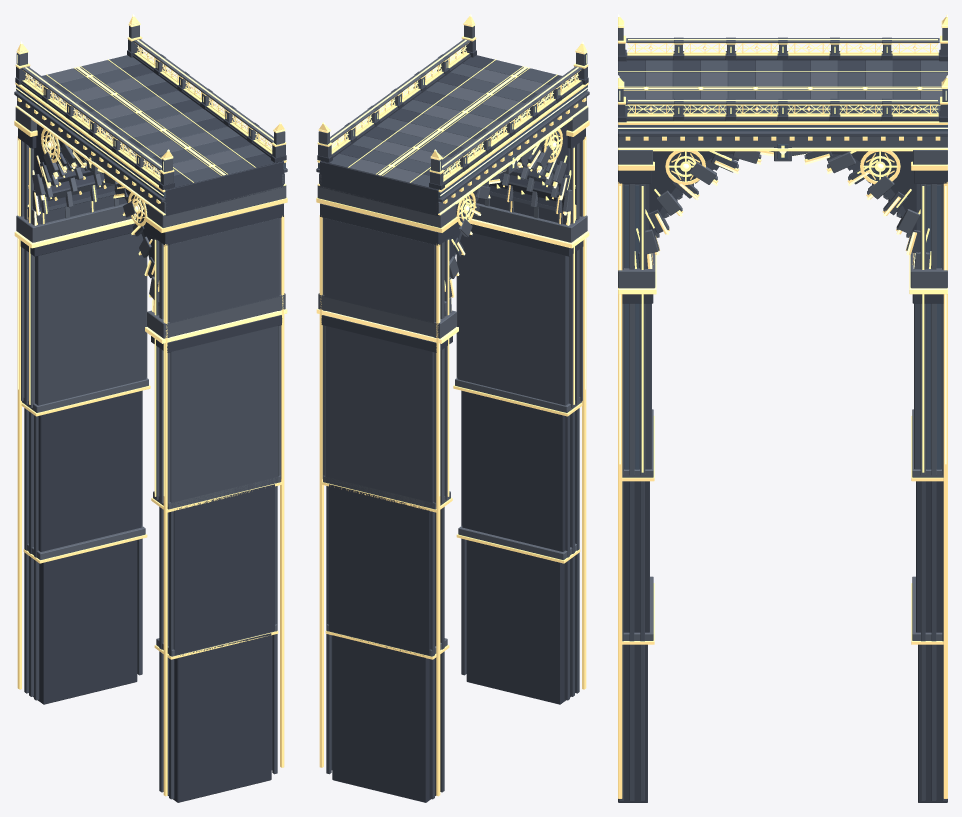
Rendered from viaduct_arch.glb.
3 renders of one model, left to right at view 1: azimuth 30°, elevation 25°; view 2: azimuth 150°, elevation 25°; view 3: azimuth 270°, elevation 25°, orthographic. The views are drawn at different scales.
Parts seen in each view (by area): view 1: ViaductArch; view 2: ViaductArch; view 3: ViaductArch.
Boxes of the visible parts, left/top/right/bottom form: ViaductArch: left=14, top=14, right=287, bottom=802; ViaductArch: left=316, top=14, right=589, bottom=802; ViaductArch: left=618, top=14, right=947, bottom=802.
Bounding box in the file's own units: 10.72 × 53.2 × 21.7.
